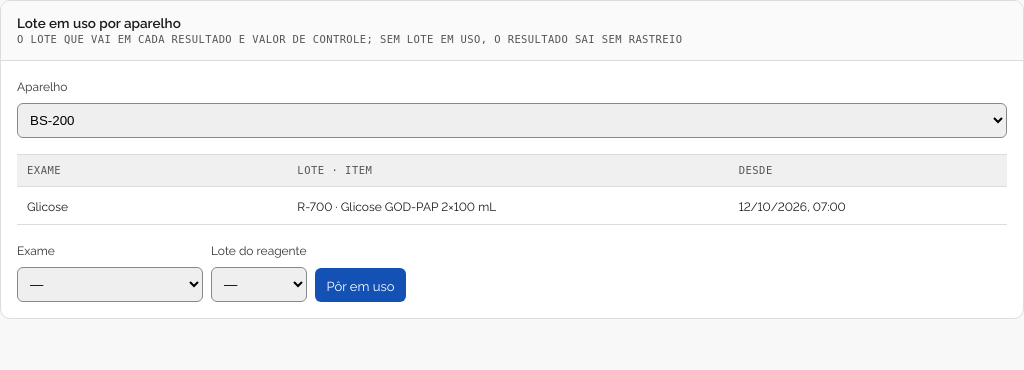
Test: InUsePanel › 422 exam_not_linked, 422 invalid_instrument e 404 viram frase própria
The width and height of the screenshot is (1024, 370).
Expected: the text "R-700 · Glicose GOD-PAP 2×100 mL" is shown, [297,197,496,214]
Select "Glicose" in the dropdown labelled "Exame": (110, 284) [17,267,203,302]
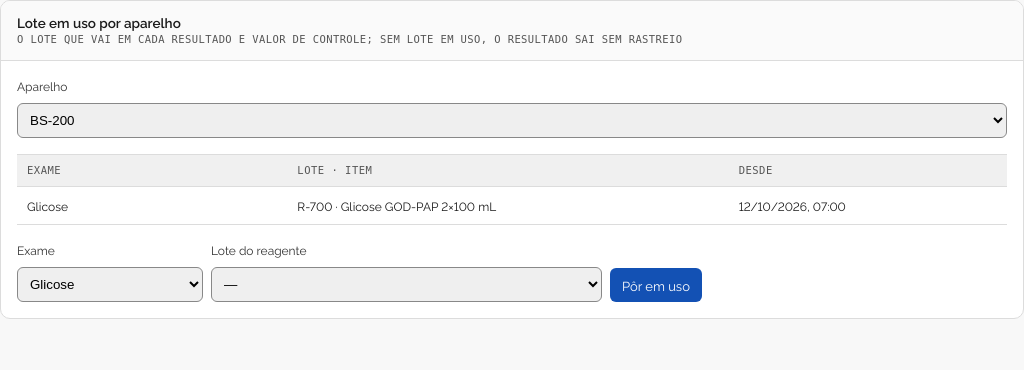
Select "R-778 · Glicose GOD-PAP 2×100 mL · validade 31/01/2027" in the dropdown labelled "Lote do reagente": (406, 284) [211,267,602,302]
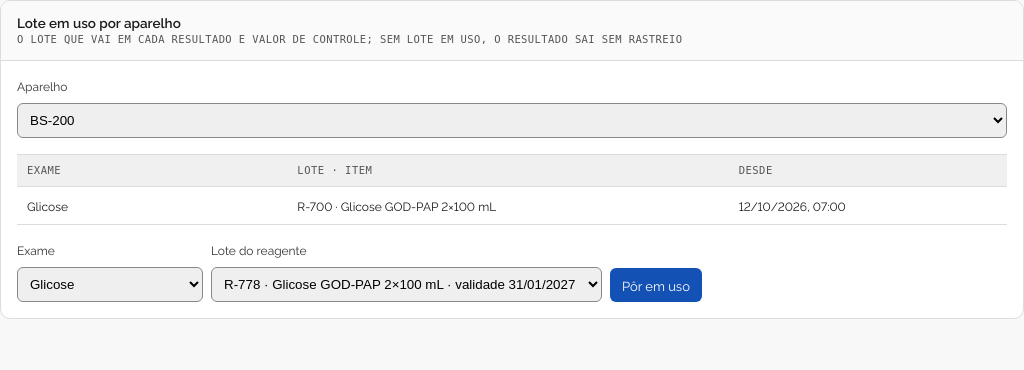
Click the button "Pôr em uso": click(656, 285) [610,268,702,302]
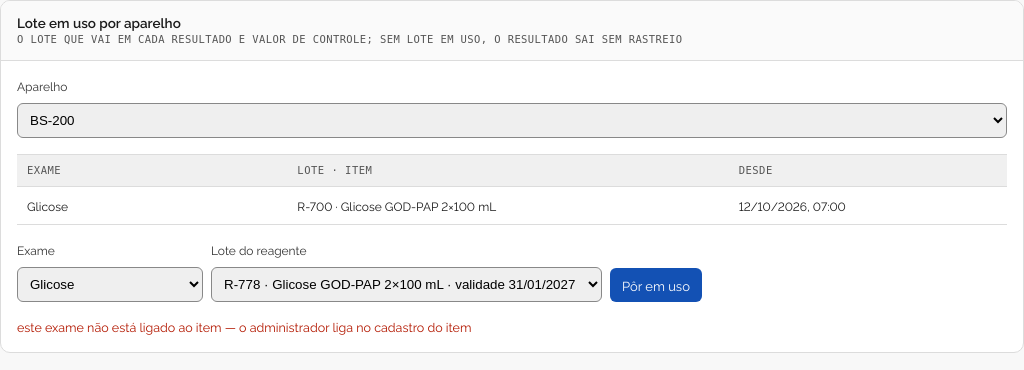
Now the message reads "este exame não está ligado ao item — o administrador liga no cadastro do item", box [17,318,472,335]
Click the button "Pôr em uso": click(656, 285) [610,268,702,302]
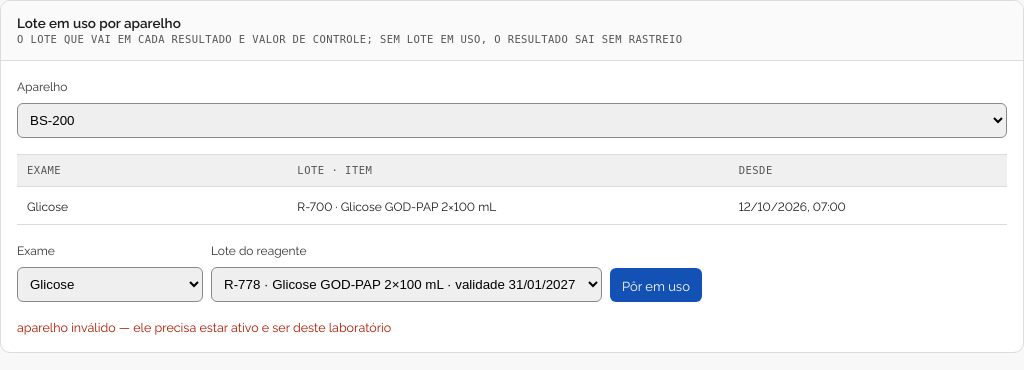
Now the message reads "aparelho inválido — ele precisa estar ativo e ser deste laboratório", box [17,318,391,335]
Click the button "Pôr em uso": click(656, 285) [610,268,702,302]
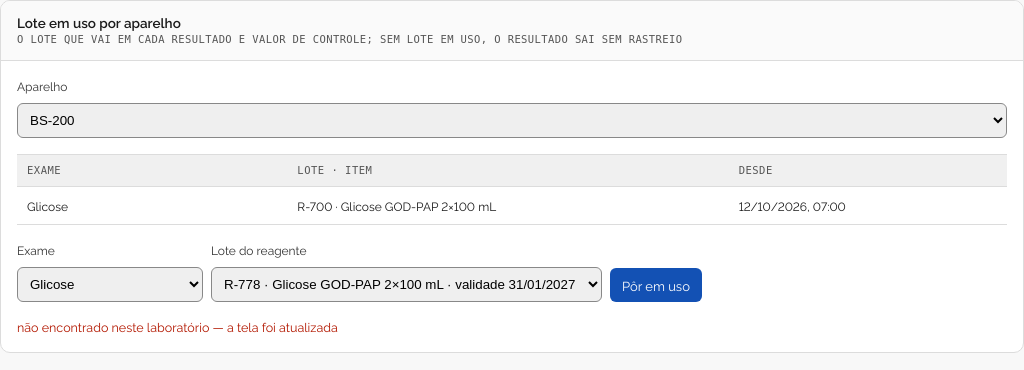
Now the message reads "não encontrado neste laboratório — a tela foi atualizada", box [17,318,338,335]
